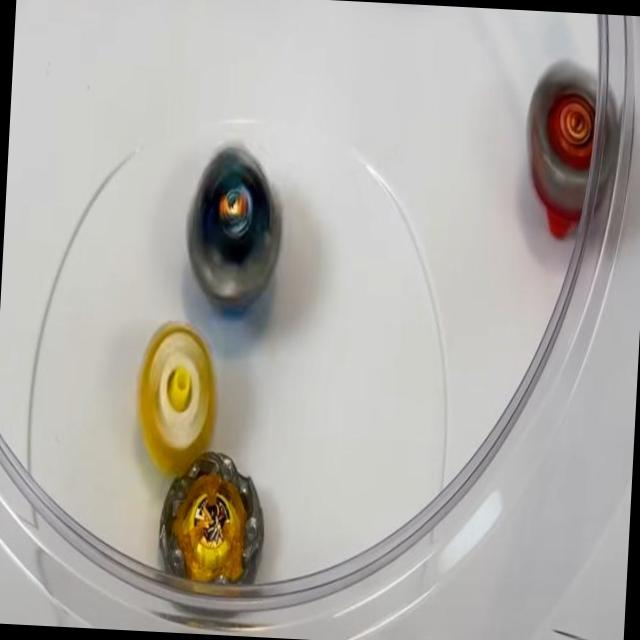Beyblade: (179, 137, 286, 318), (523, 56, 623, 246), (157, 448, 269, 588), (131, 318, 222, 480)
